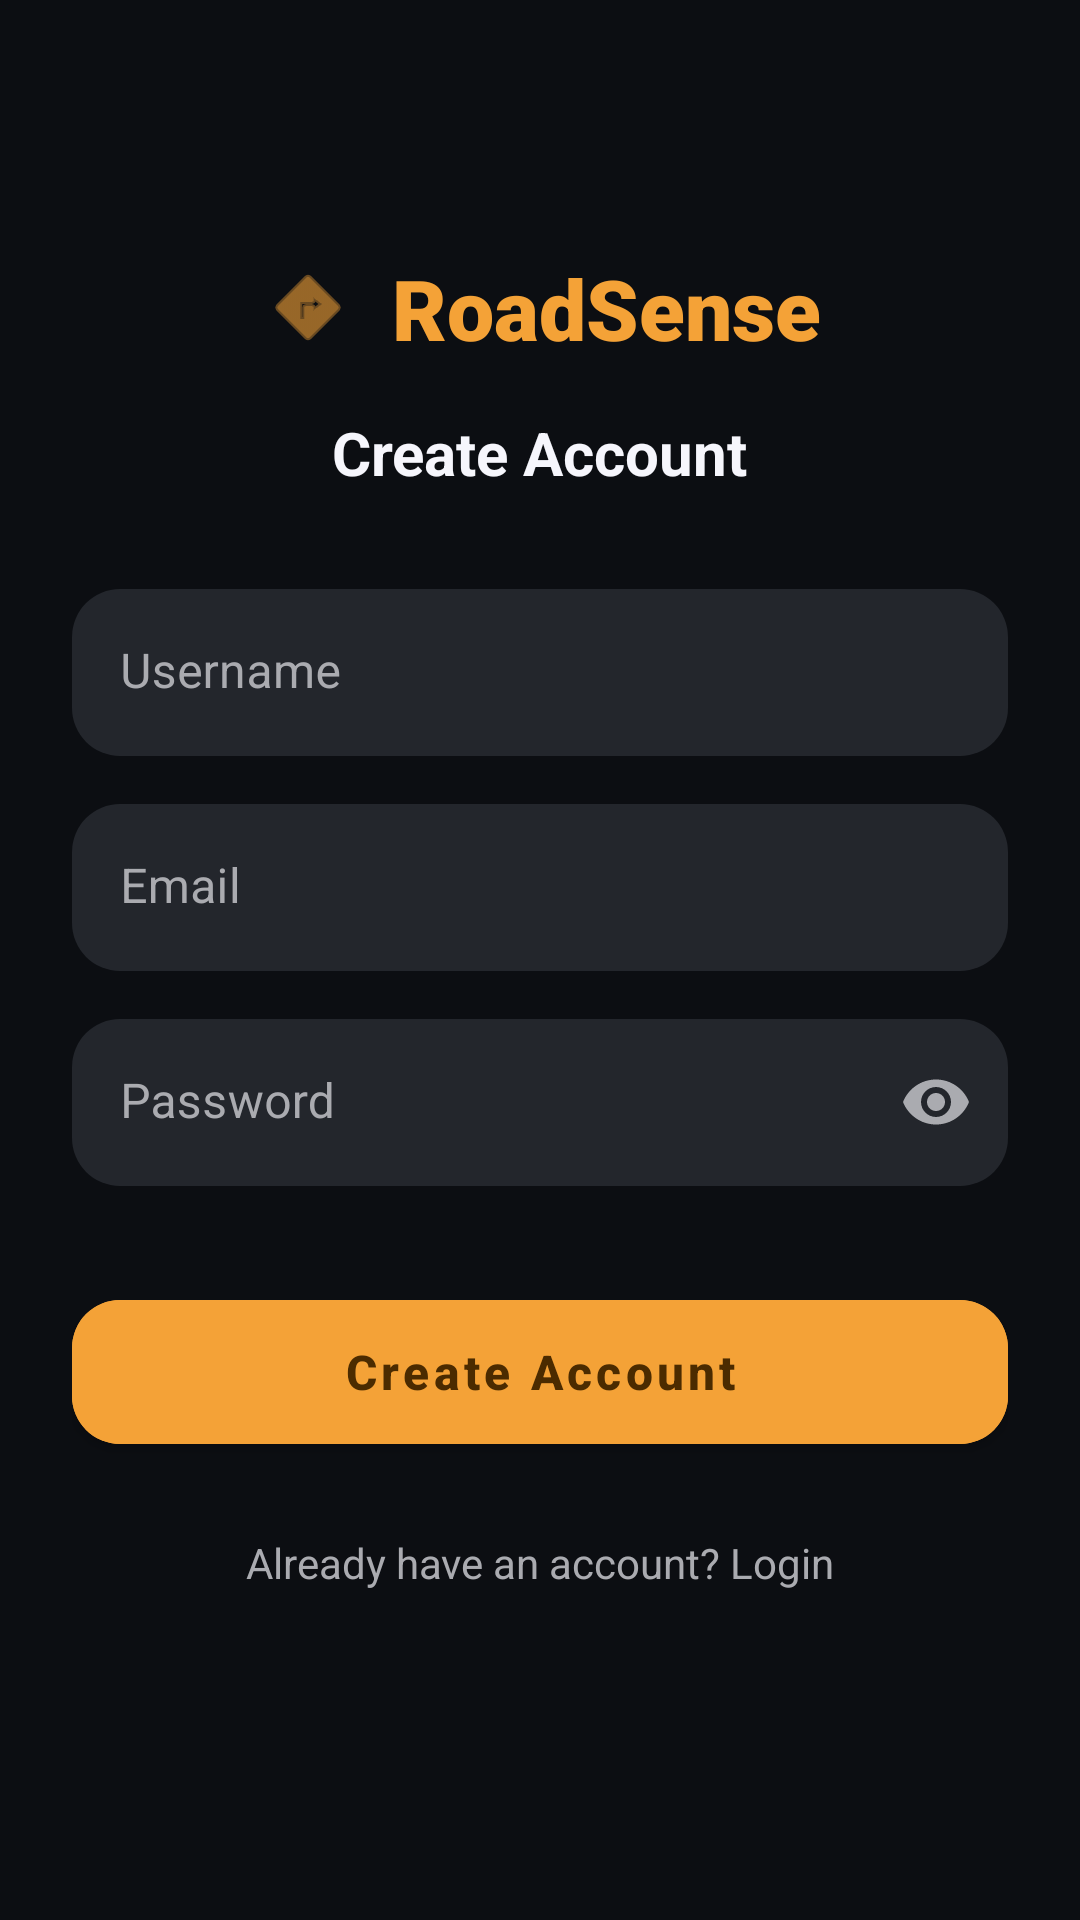

Screen size 1080×1920. Icon name, then its center in pixels as (x=x, y=y):
directions: (x=308, y=307)
